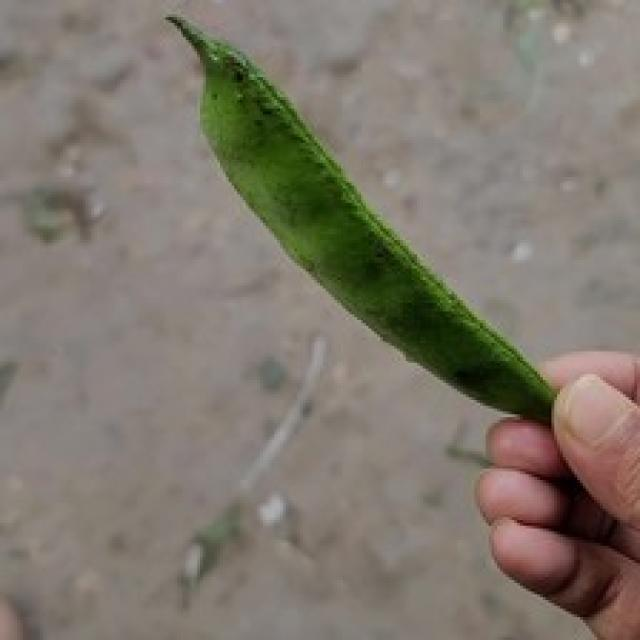Bean: (163, 8, 560, 426)
